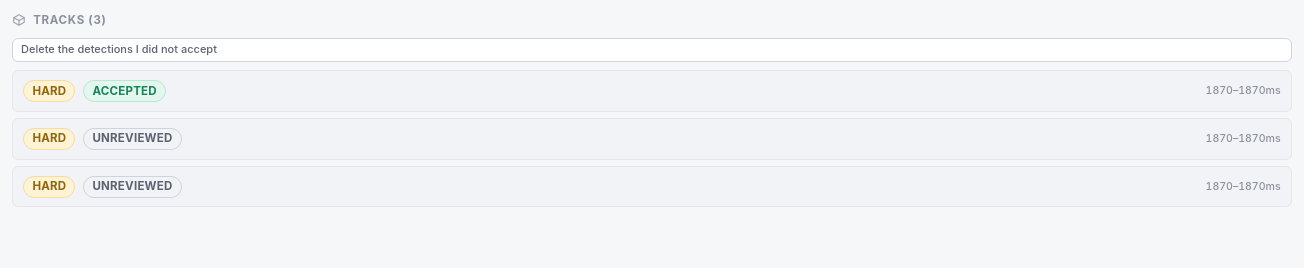
it: SweepTracks › offers nothing to press when everything has been reviewed
This screenshot has width=1304, height=268.
Click the button "Delete the detections I did not accept" at (119, 49), box [12,38,1292,62]
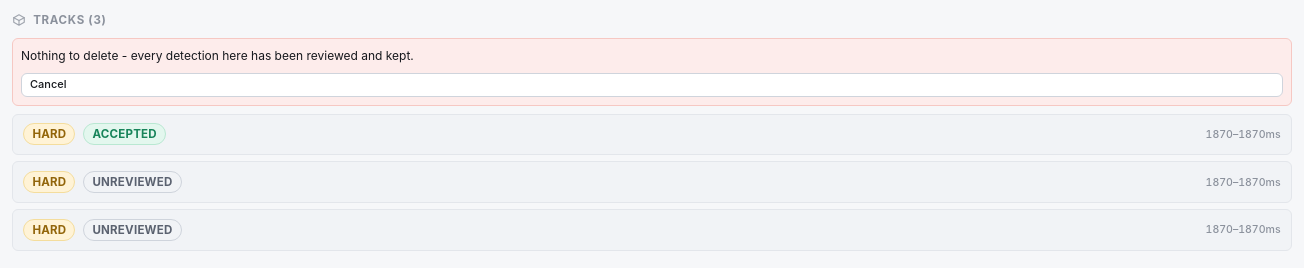
Result: the text "every detection here has been reviewed" is shown at [21,48,414,63]
